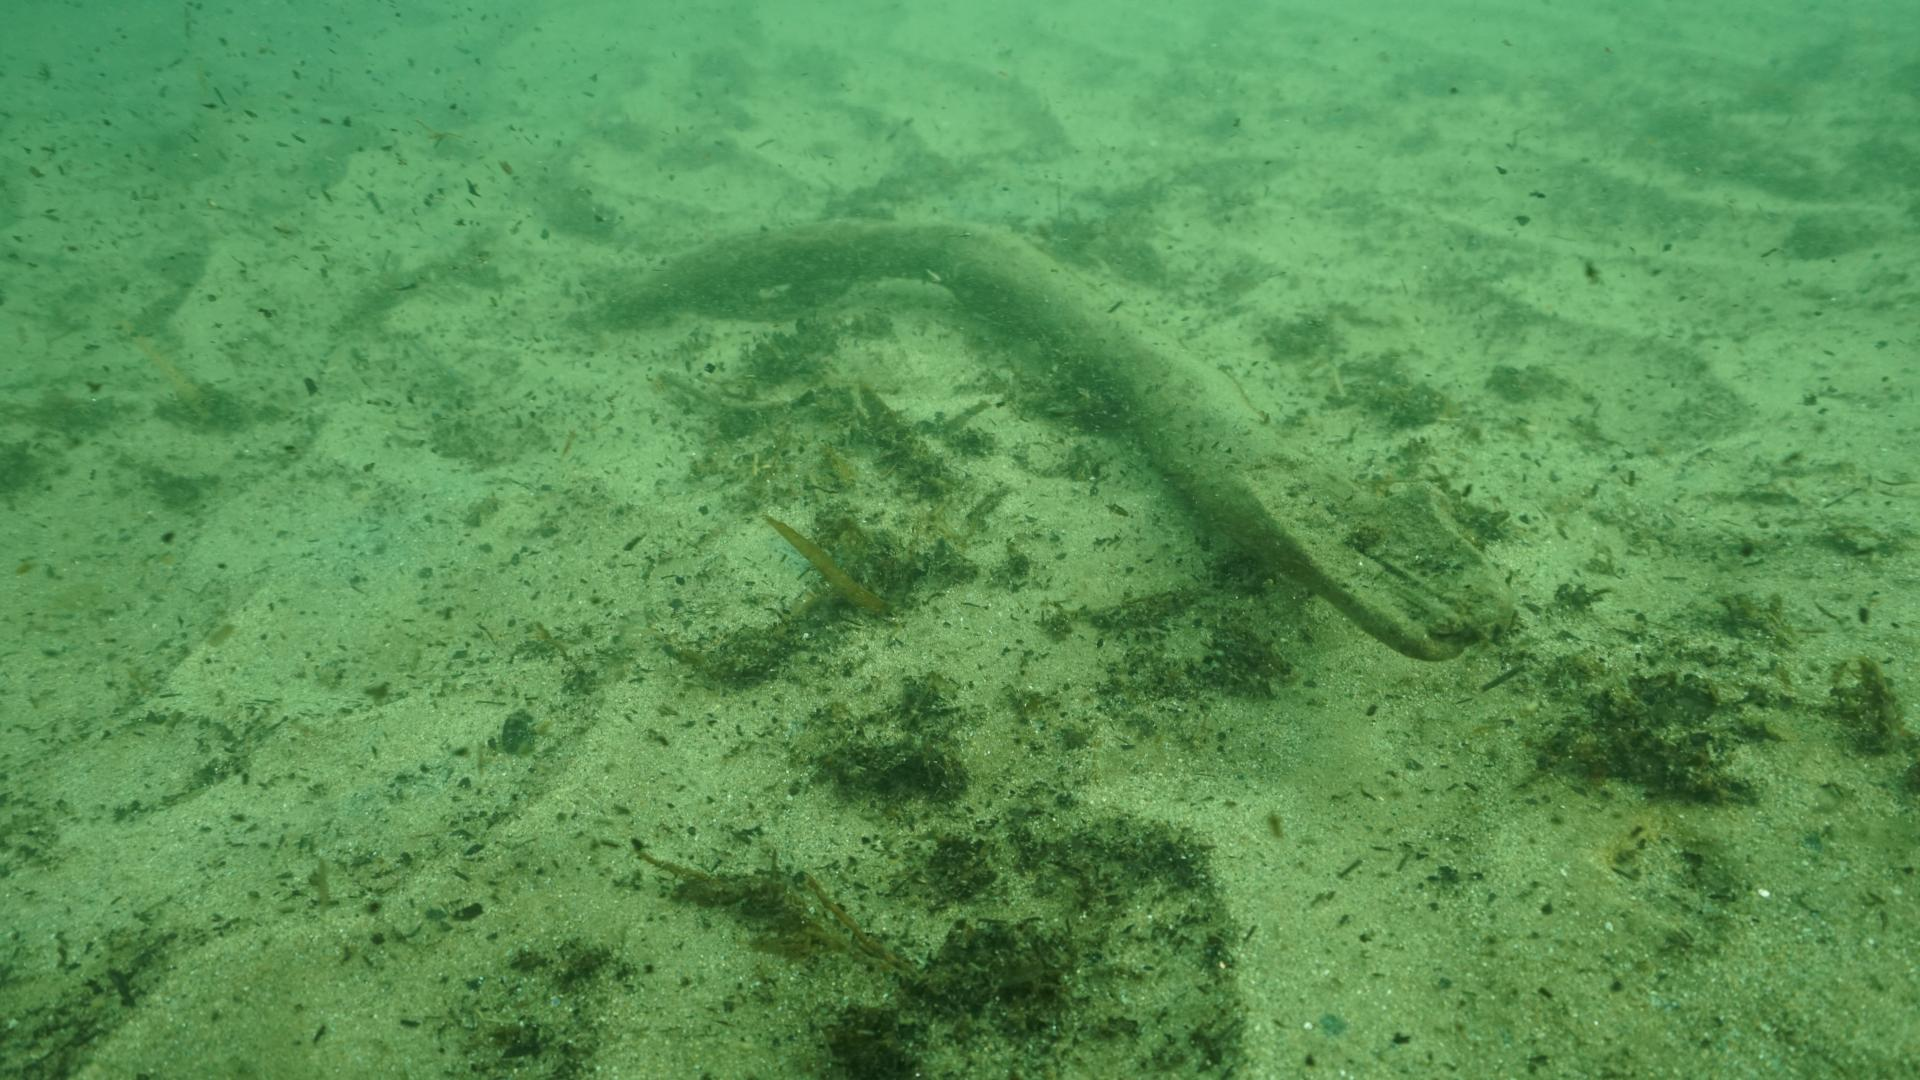wood: (604, 218, 1516, 659)
